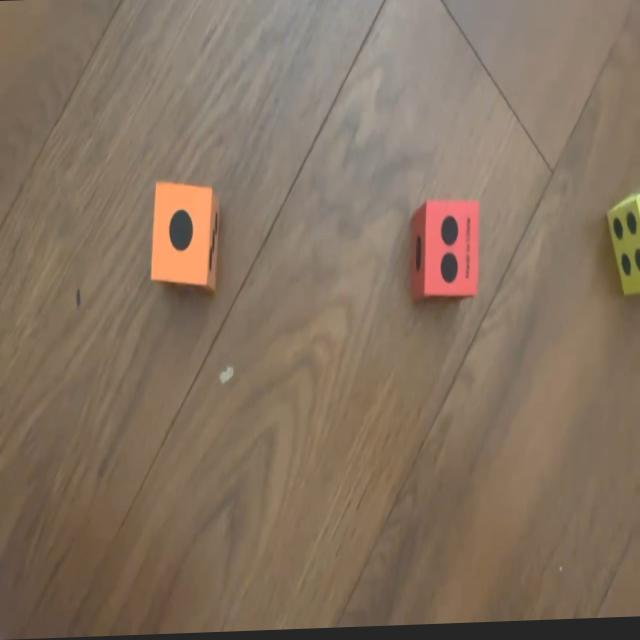cube: (411, 203, 481, 301)
